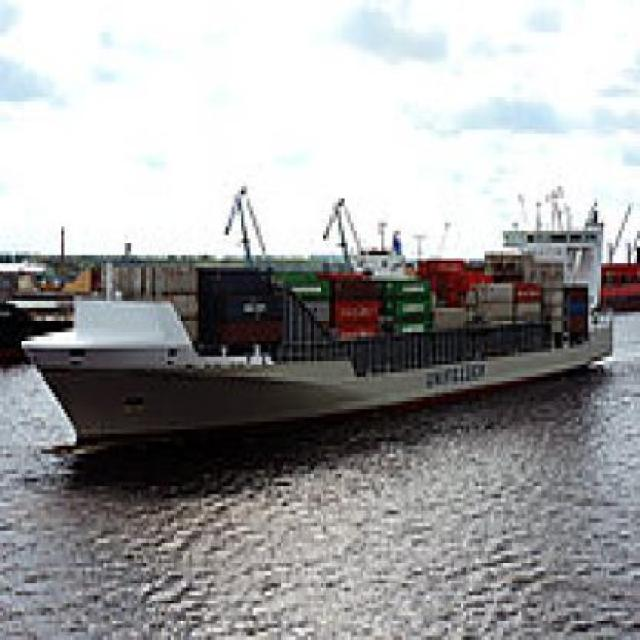container: (13, 171, 626, 466)
